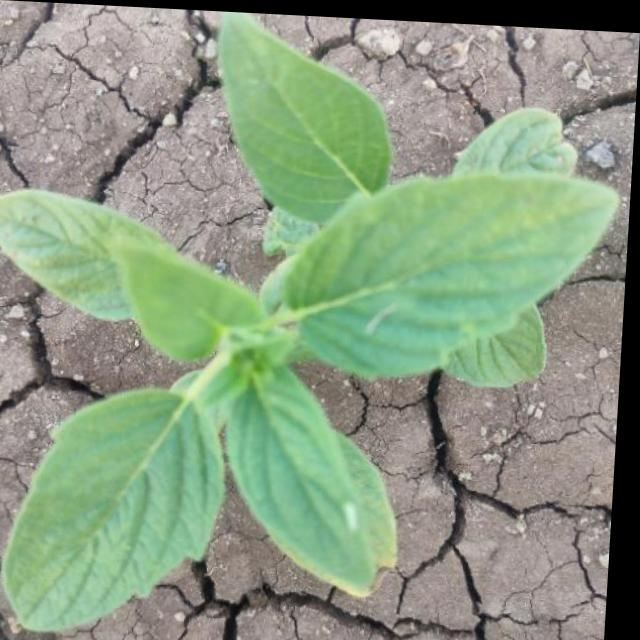crop: (0, 28, 625, 632)
